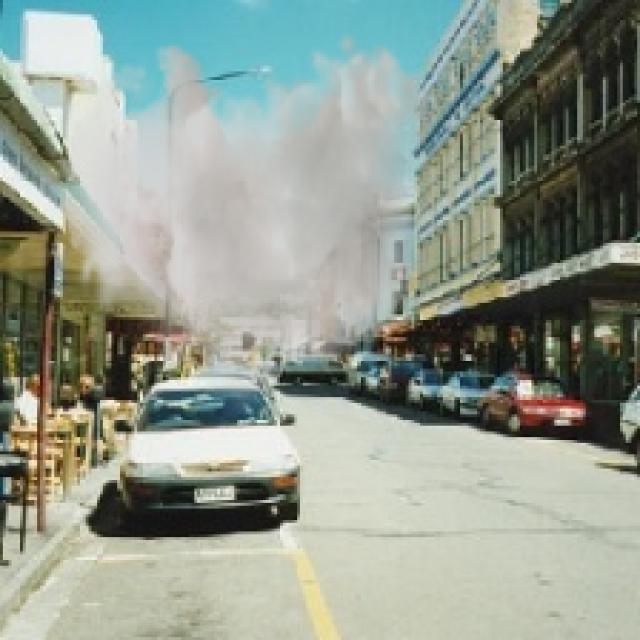smoke: (63, 28, 431, 423)
